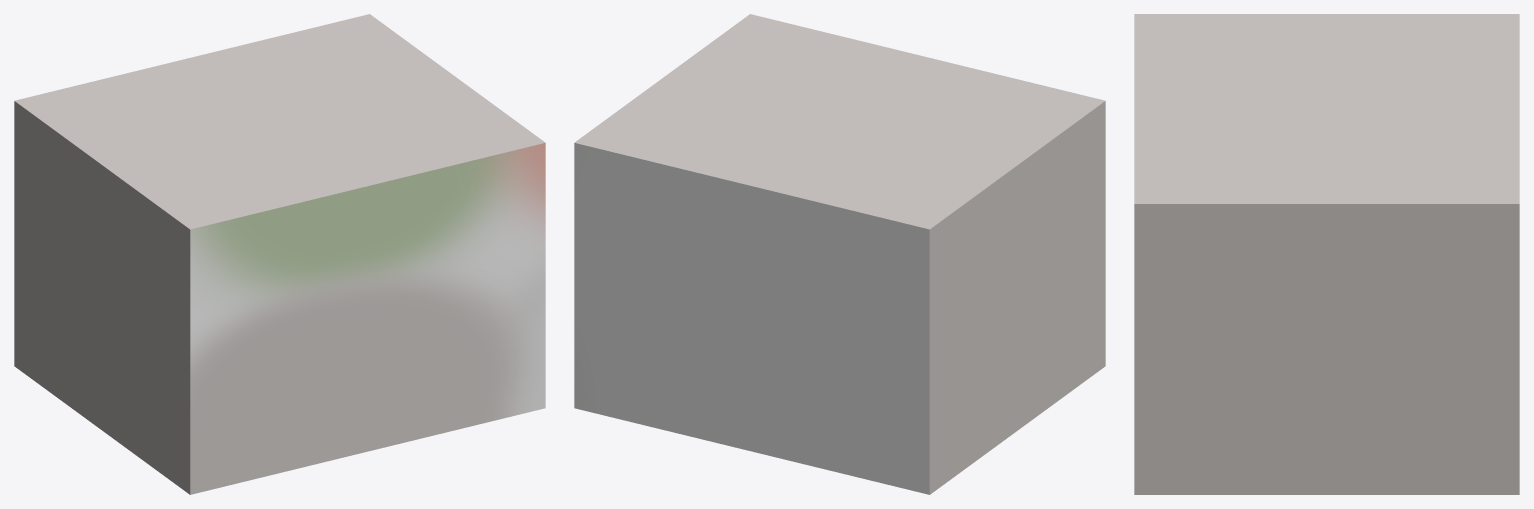
Rendered from tosyo.glb.
3 views of the same model, side by side, from view 1: azimuth 30°, elevation 25°; view 2: azimuth 150°, elevation 25°; view 3: azimuth 270°, elevation 25° (orthographic). The views are drawn at different scales.
Parts seen in each view (by area): view 1: 図書室; view 2: 図書室; view 3: 図書室.
Part boxes in pixels (x1=…): 図書室: x1=14, y1=14, x2=545, y2=494; 図書室: x1=574, y1=14, x2=1105, y2=494; 図書室: x1=1134, y1=14, x2=1519, y2=494.
Bounding box in the file's own units: 2.23 × 1.59 × 1.91.
1 material, 1 textured.
